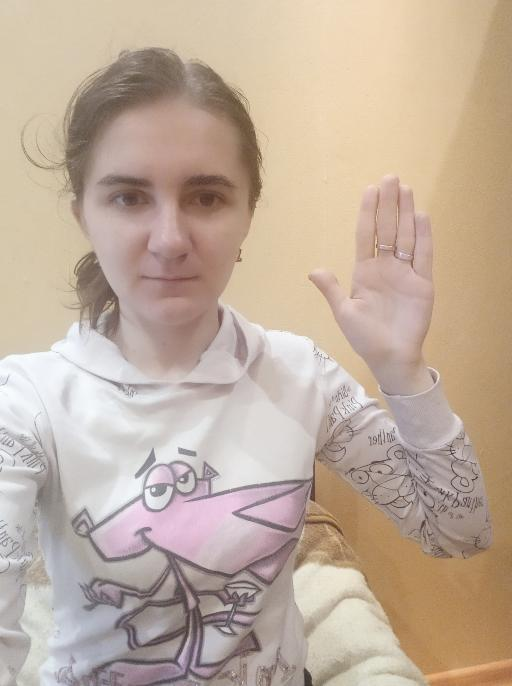stop: (306, 171, 436, 363)
